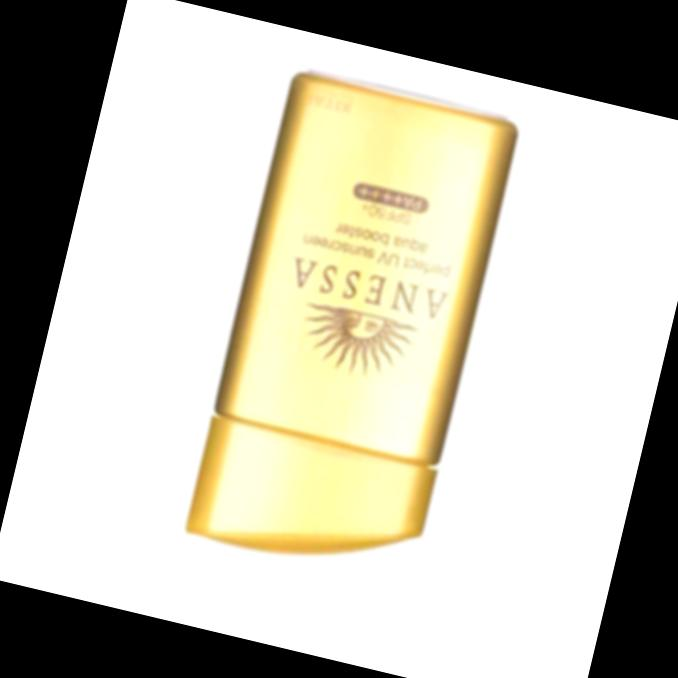cosmetic: (181, 72, 524, 589)
